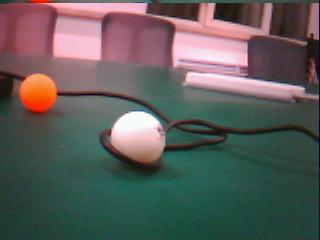oball: (19, 74, 56, 113)
